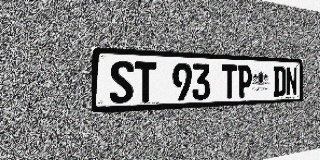3: (192, 63, 210, 100)
9: (173, 63, 192, 101)
D: (273, 66, 286, 97)
N: (286, 67, 297, 96)
P: (238, 65, 252, 98)
S: (110, 60, 134, 104)
T: (135, 61, 156, 103), (222, 64, 237, 99)
